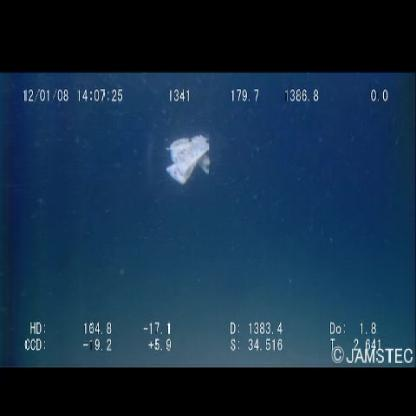Rác: (163, 131, 214, 190)
